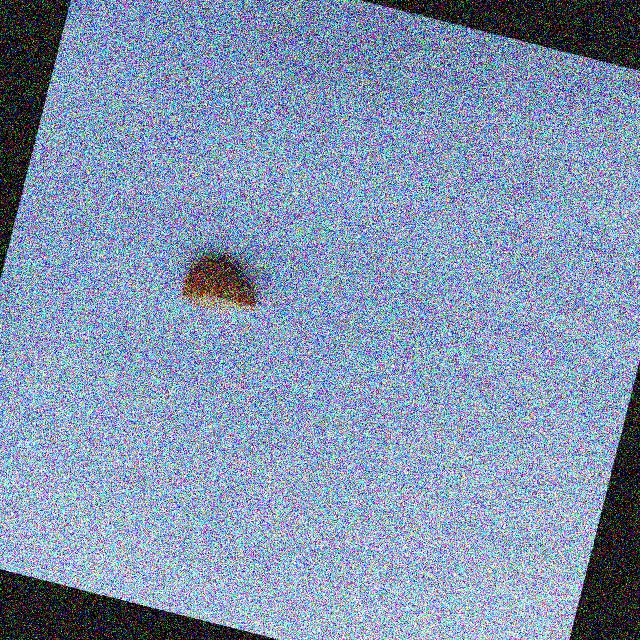grade4: (171, 243, 275, 326)
